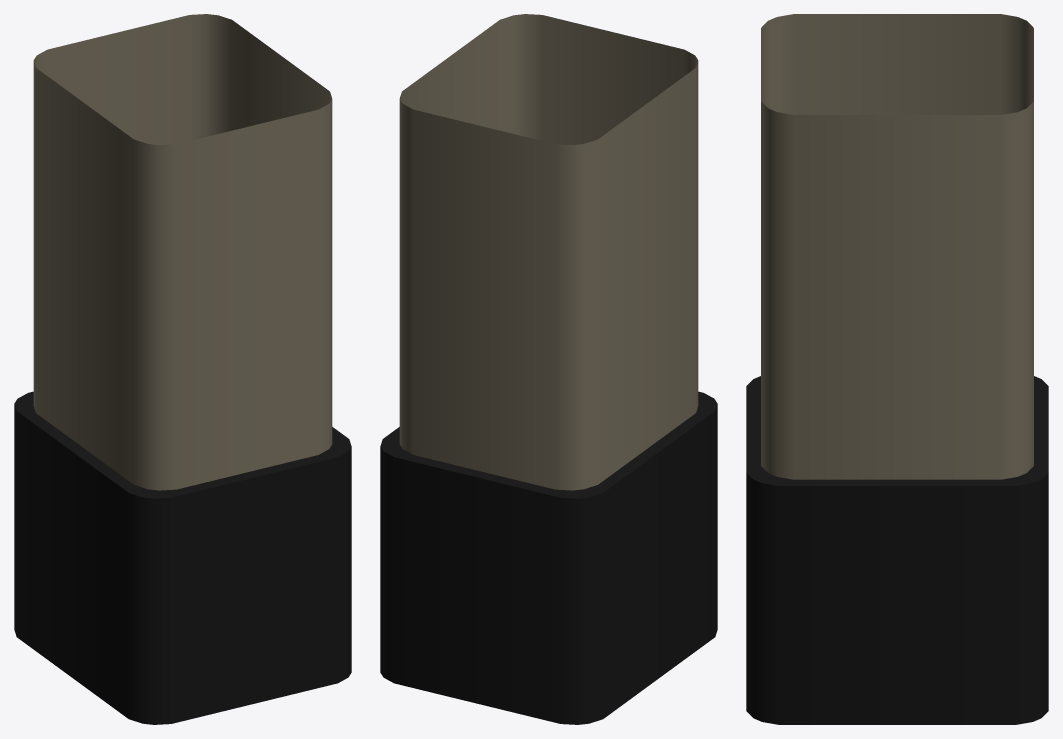
File: SM_pillar_04.fbx
3 renders of one model, left to right at view 1: azimuth 30°, elevation 25°; view 2: azimuth 150°, elevation 25°; view 3: azimuth 270°, elevation 25°, orthographic. The views are drawn at different scales.
Visible parts, largest first — view 1: pillar_04; view 2: pillar_04; view 3: pillar_04.
Part boxes in pixels (bbox=[...]): pillar_04: bbox=[14, 14, 351, 724]; pillar_04: bbox=[380, 14, 717, 724]; pillar_04: bbox=[746, 14, 1048, 724].
Size of the model in its own units: 73.79 by 183 by 83.03.
